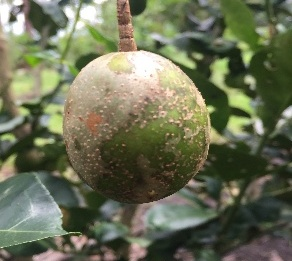Coc: (56, 42, 223, 219)
